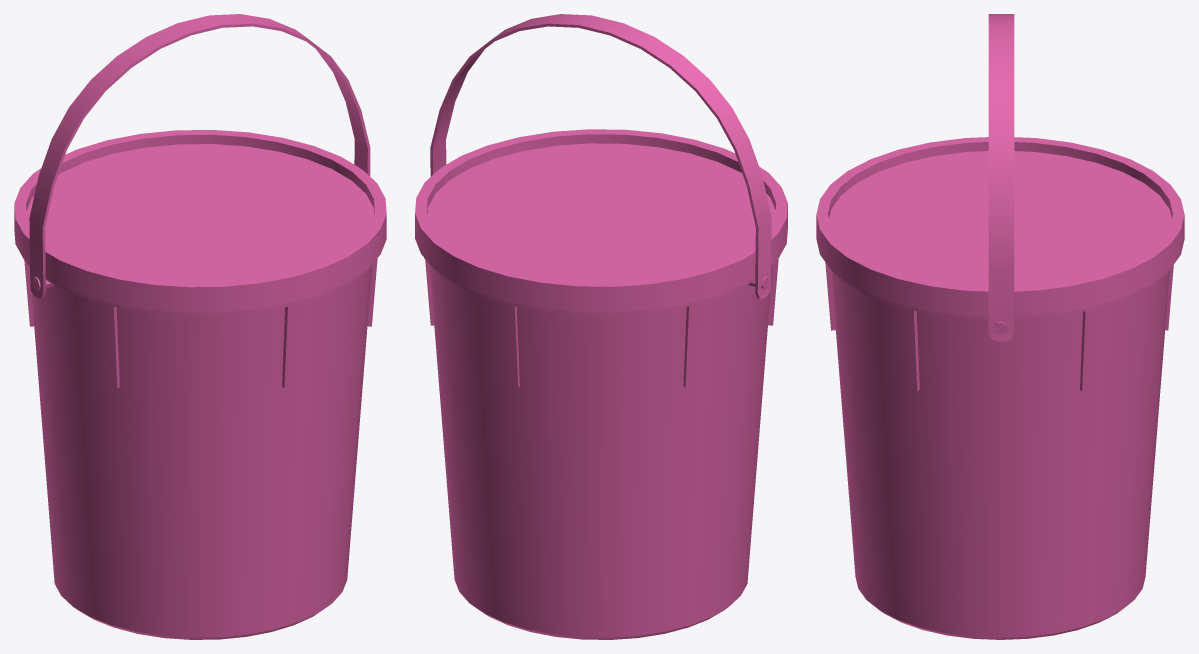
File: FBX_MedicalWasteBin.fbx
3 views of the same model, side by side, from view 1: azimuth 30°, elevation 25°; view 2: azimuth 150°, elevation 25°; view 3: azimuth 270°, elevation 25° (orthographic).
Parts seen in each view (by area): view 1: SM_MedicalWasteBin_container, SM_MedicalWasteBin_lid, SM_MedicalWasteBin_handle; view 2: SM_MedicalWasteBin_container, SM_MedicalWasteBin_lid, SM_MedicalWasteBin_handle; view 3: SM_MedicalWasteBin_container, SM_MedicalWasteBin_lid, SM_MedicalWasteBin_handle.
Boxes of the visible parts, x1=… form: SM_MedicalWasteBin_container: x1=24, y1=258, x2=377, y2=639; SM_MedicalWasteBin_lid: x1=14, y1=130, x2=386, y2=312; SM_MedicalWasteBin_handle: x1=29, y1=14, x2=370, y2=298; SM_MedicalWasteBin_container: x1=424, y1=257, x2=778, y2=639; SM_MedicalWasteBin_lid: x1=415, y1=129, x2=787, y2=312; SM_MedicalWasteBin_handle: x1=430, y1=14, x2=771, y2=298; SM_MedicalWasteBin_container: x1=825, y1=262, x2=1173, y2=639; SM_MedicalWasteBin_lid: x1=816, y1=137, x2=1184, y2=316; SM_MedicalWasteBin_handle: x1=988, y1=14, x2=1014, y2=341.
Size of the model in its own units: 0.3759 by 0.6059 by 0.3688.
